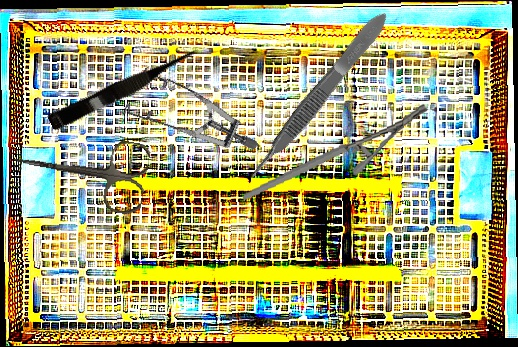Iris Scissors: (8, 122, 152, 217)
Micro Scissor: (46, 42, 205, 135)
Needle Holder: (233, 102, 438, 201)
Speculum: (108, 38, 260, 199)
Tissue Forceps: (240, 7, 395, 185)
